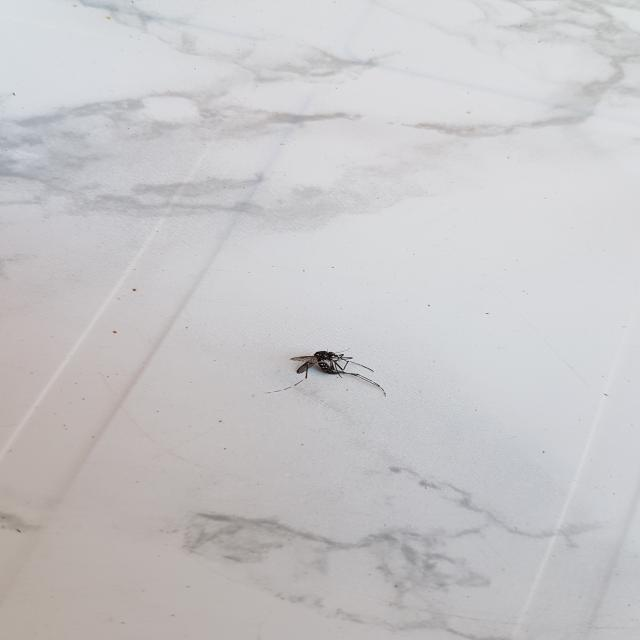albopictus: (261, 344, 388, 399)
